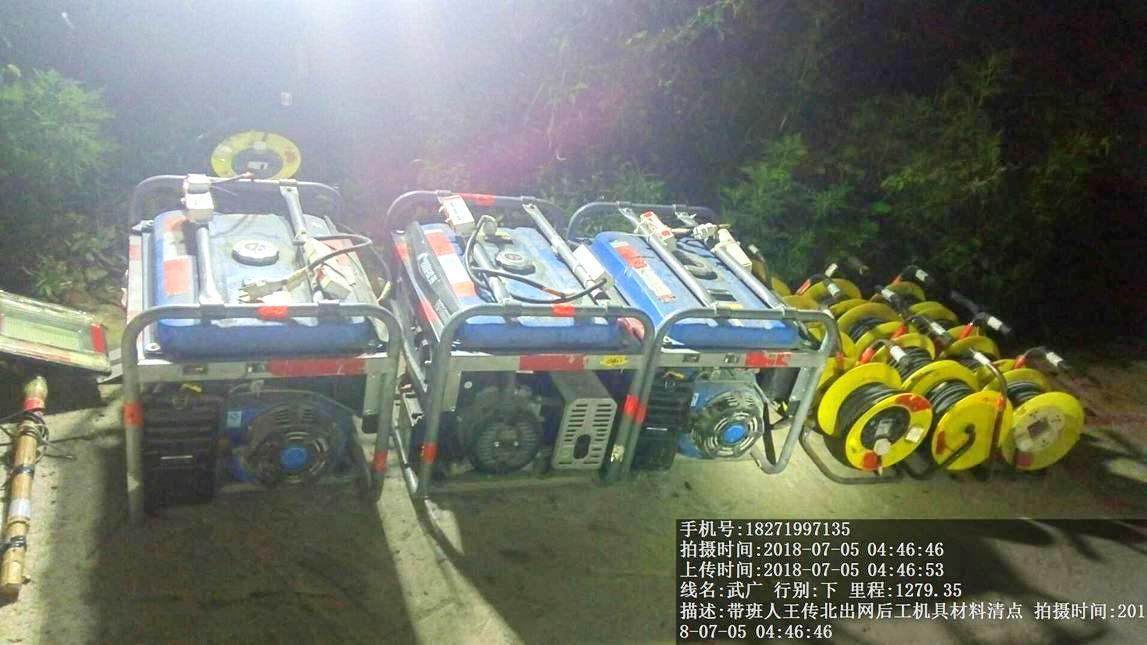DJ: (104, 167, 395, 503), (391, 189, 628, 487), (629, 202, 810, 485)
DX: (827, 356, 925, 482)
